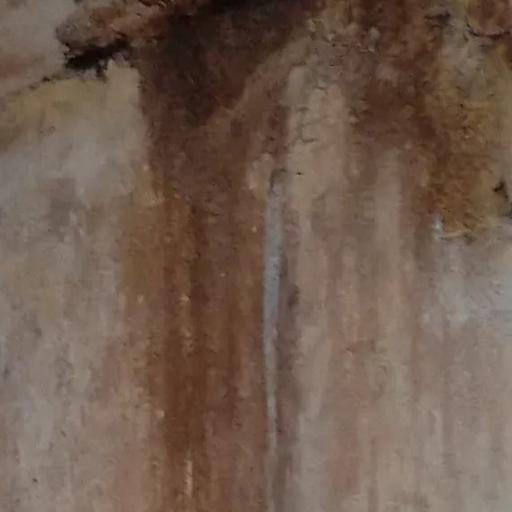stain: (55, 8, 512, 503)
